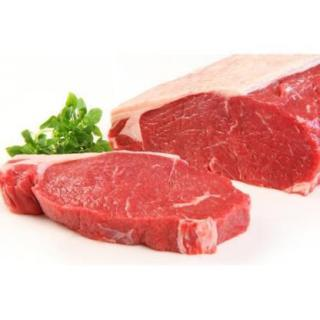Daging Sapi: (108, 55, 320, 196), (4, 158, 253, 257)
